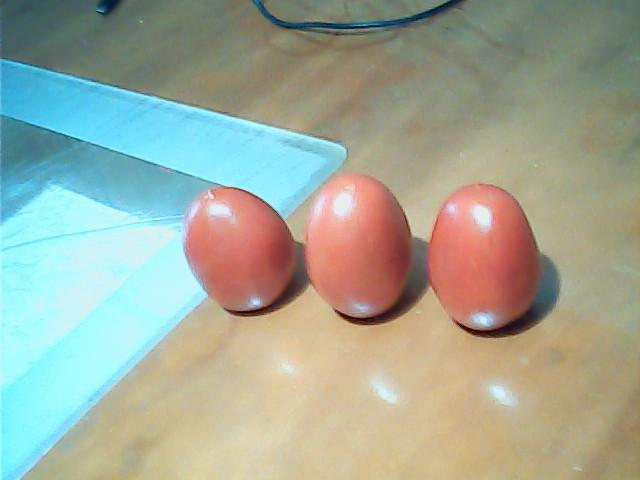maduro: (429, 185, 535, 331), (181, 184, 295, 317), (305, 175, 409, 318)
